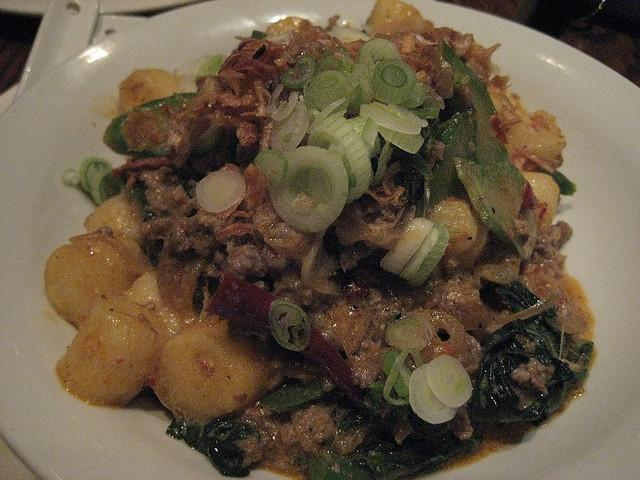bell pepper: (453, 156, 537, 260), (442, 39, 509, 164), (103, 92, 197, 158), (427, 106, 477, 215), (257, 380, 324, 414), (537, 166, 576, 196), (252, 31, 268, 40)
potato: (59, 296, 172, 405), (156, 315, 270, 421), (44, 236, 128, 326), (85, 192, 156, 272), (69, 226, 146, 292), (426, 197, 478, 257), (116, 68, 182, 114), (507, 110, 566, 157), (521, 172, 560, 232), (362, 0, 425, 37), (143, 303, 182, 339), (129, 270, 159, 304), (266, 16, 304, 34)
